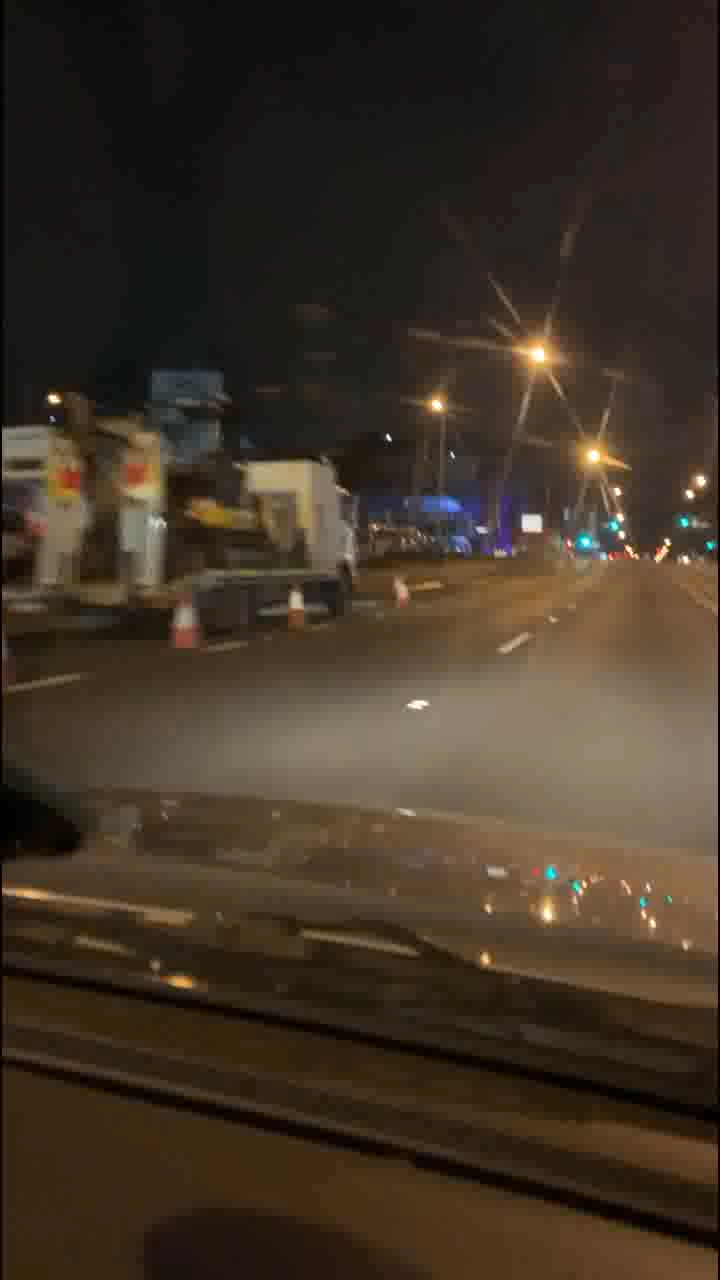truck: (7, 403, 372, 642)
